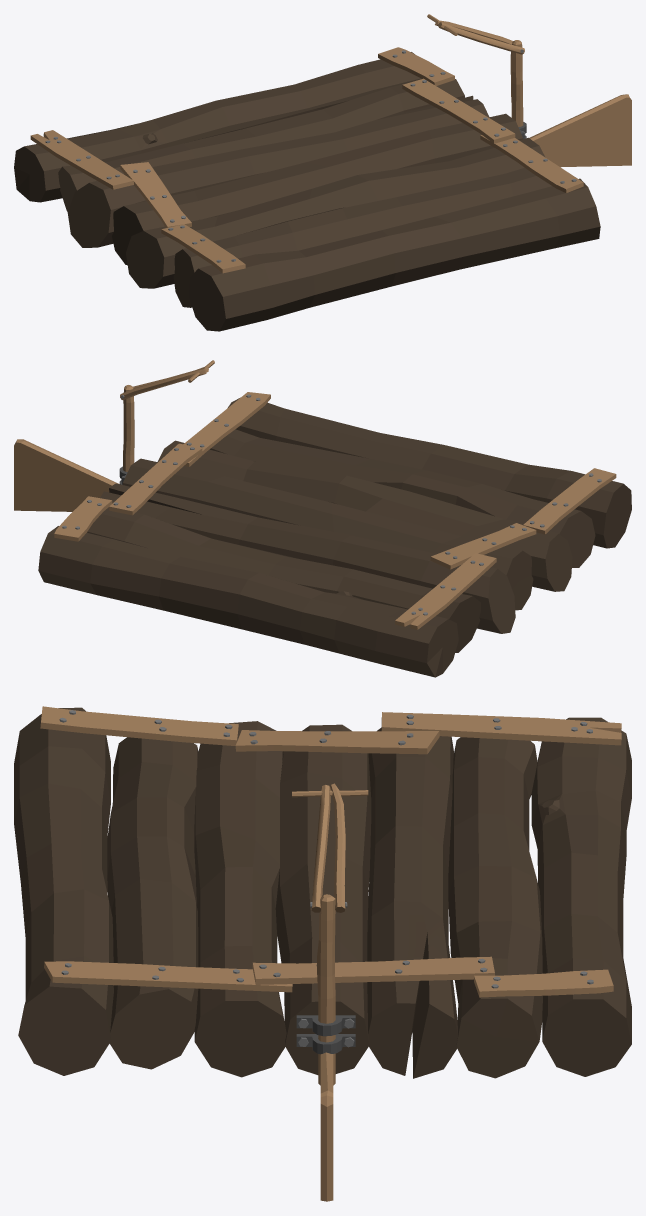
Rendered from Raft.fbx.
3 views of the same model, one above another, from view 1: azimuth 30°, elevation 25°; view 2: azimuth 150°, elevation 25°; view 3: azimuth 270°, elevation 25° (orthographic). The views are drawn at different scales.
Parts seen in each view (by area): view 1: Log, Log_6, Log_3, Log_2, Log_4, Log_1, Log_5, Rudder, Plank_1, Plank_3, Plank_4, Plank (+3 smaller); view 2: Log_6, Log, Log_4, Log_2, Log_3, Log_5, Log_1, Rudder, Plank_3, Plank_1, Plank_5, Plank (+3 smaller); view 3: Log, Log_6, Log_5, Log_1, Log_2, Log_4, Log_3, Plank_3, Plank, Plank_1, Rudder, Plank_5 (+5 smaller).
Part boxes in pixels (x1,y1,x2,y2): Log: (189,178,600,331); Log_6: (14,52,421,202); Log_3: (112,113,522,265); Log_2: (126,137,545,288); Log_4: (67,95,489,247); Log_1: (173,168,551,307); Log_5: (58,79,464,211); Rudder: (510,40,631,167); Plank_1: (402,78,515,143); Plank_3: (30,130,133,189); Plank_4: (120,162,191,227); Plank: (480,135,583,193); Log_6: (38,526,458,677); Log: (228,397,631,548); Log_4: (100,483,515,633); Log_2: (157,440,572,591); Log_3: (122,458,533,610); Log_5: (87,507,480,652); Log_1: (210,429,595,567); Rudder: (14,385,134,511); Plank_3: (395,553,496,629); Plank_1: (109,443,202,515); Plank_5: (523,468,616,534); Plank: (183,392,270,466); Log: (14,707,113,1075); Log_6: (531,717,631,1076); Log_5: (448,737,542,1078); Log_1: (107,737,198,1069); Log_2: (194,721,286,1077); Log_4: (367,727,457,1078); Log_3: (275,724,371,1074); Plank_3: (381,712,621,745); Plank: (44,961,292,992); Plank_1: (252,956,494,984); Rudder: (317,894,335,1201); Plank_5: (40,706,238,745).
Size of the model in its own units: 282 by 97.06 by 195.
